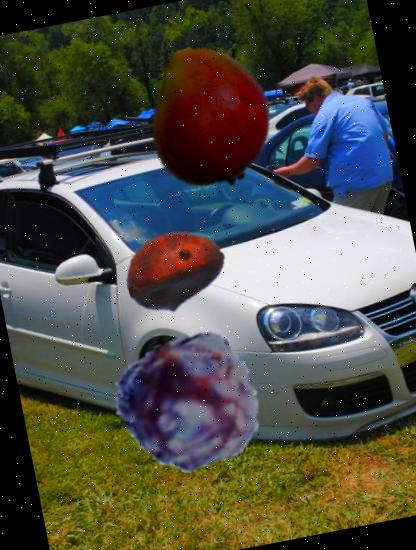Chestnut: (116, 210, 235, 330)
Dates: (106, 322, 272, 488)
Mango: (124, 32, 294, 201)
